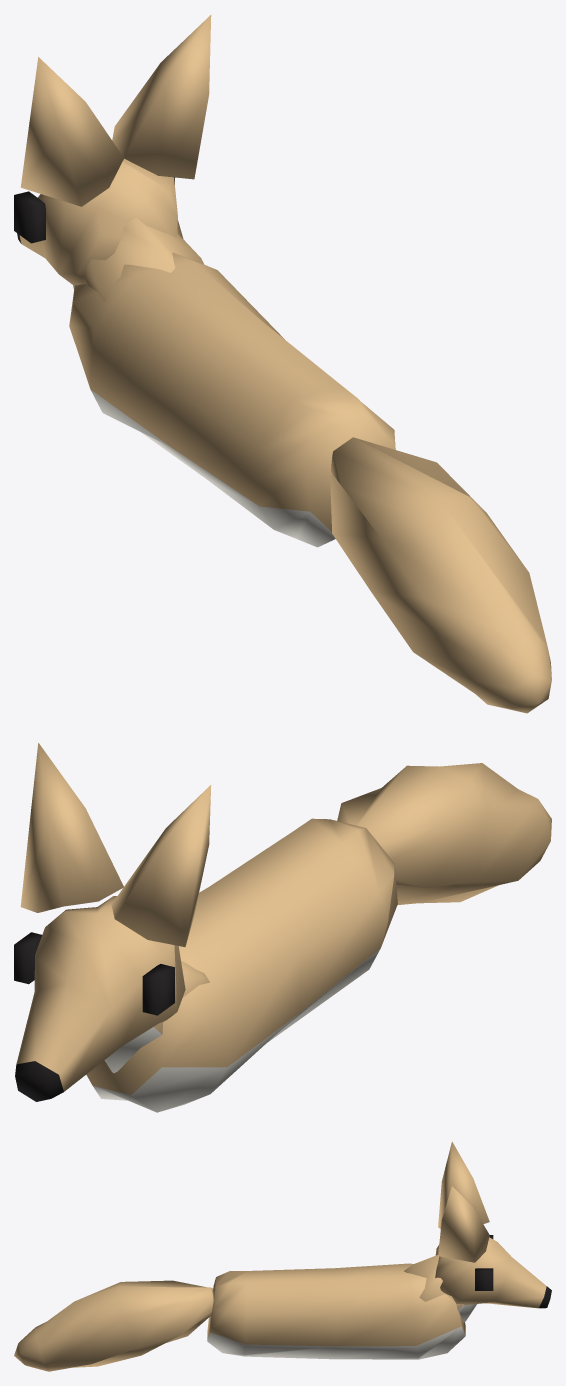
File: animal_fox_fennec.obj
3 views of the same model, one above another, from view 1: azimuth 30°, elevation 25°; view 2: azimuth 150°, elevation 25°; view 3: azimuth 270°, elevation 25° (orthographic). The views are drawn at different scales.
Parts seen in each view (by area): view 1: animal_fox_fennec_component_01_stage_1, animal_fox_fennec_component_08_stage_1, animal_fox_fennec_component_07_stage_1, animal_fox_fennec_component_06_stage_1, animal_fox_fennec_component_03_stage_1, animal_fox_fennec_component_02_stage_1, animal_fox_fennec_component_04_stage_1; view 2: animal_fox_fennec_component_01_stage_1, animal_fox_fennec_component_08_stage_1, animal_fox_fennec_component_03_stage_1, animal_fox_fennec_component_07_stage_1, animal_fox_fennec_component_06_stage_1, animal_fox_fennec_component_04_stage_1, animal_fox_fennec_component_02_stage_1, animal_fox_fennec_component_05_stage_1; view 3: animal_fox_fennec_component_01_stage_1, animal_fox_fennec_component_08_stage_1, animal_fox_fennec_component_03_stage_1, animal_fox_fennec_component_07_stage_1, animal_fox_fennec_component_06_stage_1, animal_fox_fennec_component_02_stage_1, animal_fox_fennec_component_05_stage_1.
Boxes of the visible parts, x1=… form: animal_fox_fennec_component_01_stage_1: x1=69, y1=252, x2=395, y2=547; animal_fox_fennec_component_08_stage_1: x1=330, y1=437, x2=551, y2=713; animal_fox_fennec_component_07_stage_1: x1=112, y1=15, x2=211, y2=179; animal_fox_fennec_component_06_stage_1: x1=20, y1=57, x2=123, y2=206; animal_fox_fennec_component_03_stage_1: x1=17, y1=158, x2=183, y2=285; animal_fox_fennec_component_02_stage_1: x1=73, y1=217, x2=204, y2=301; animal_fox_fennec_component_04_stage_1: x1=14, y1=191, x2=45, y2=243; animal_fox_fennec_component_01_stage_1: x1=86, y1=818, x2=397, y2=1112; animal_fox_fennec_component_08_stage_1: x1=337, y1=763, x2=551, y2=905; animal_fox_fennec_component_03_stage_1: x1=15, y1=896, x2=185, y2=1101; animal_fox_fennec_component_07_stage_1: x1=20, y1=743, x2=123, y2=912; animal_fox_fennec_component_06_stage_1: x1=111, y1=785, x2=211, y2=946; animal_fox_fennec_component_04_stage_1: x1=142, y1=964, x2=174, y2=1015; animal_fox_fennec_component_02_stage_1: x1=105, y1=961, x2=209, y2=1073; animal_fox_fennec_component_05_stage_1: x1=14, y1=932, x2=41, y2=984; animal_fox_fennec_component_01_stage_1: x1=207, y1=1263, x2=465, y2=1359; animal_fox_fennec_component_08_stage_1: x1=14, y1=1280, x2=213, y2=1371; animal_fox_fennec_component_03_stage_1: x1=435, y1=1237, x2=551, y2=1308; animal_fox_fennec_component_07_stage_1: x1=438, y1=1186, x2=489, y2=1262; animal_fox_fennec_component_06_stage_1: x1=438, y1=1141, x2=489, y2=1229; animal_fox_fennec_component_02_stage_1: x1=404, y1=1255, x2=476, y2=1322; animal_fox_fennec_component_05_stage_1: x1=475, y1=1268, x2=493, y2=1290.
Bounding box in the file's own units: 0.1856 × 0.3986 × 0.9466.
